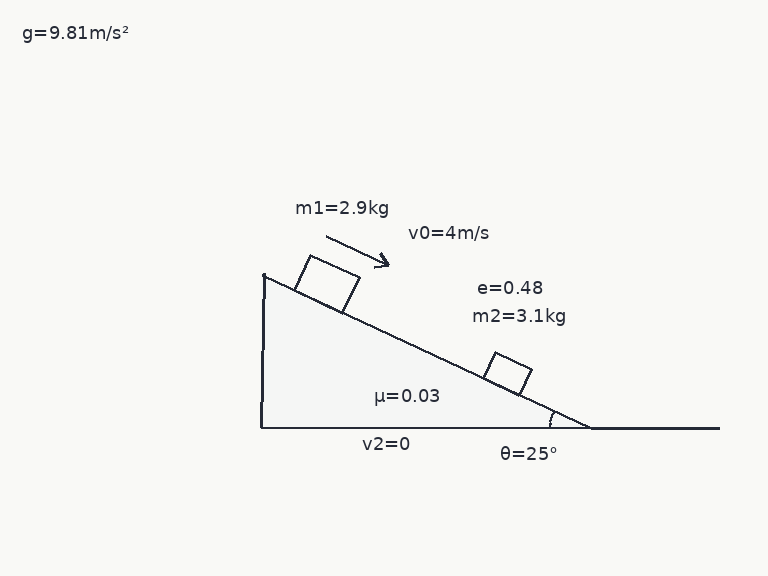block: (292, 252, 361, 314), (481, 350, 533, 397)
ramp: (260, 273, 592, 430)
